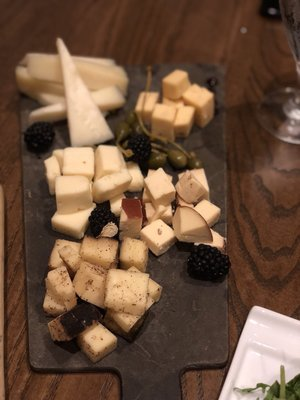sandwich: (254, 0, 300, 145)
